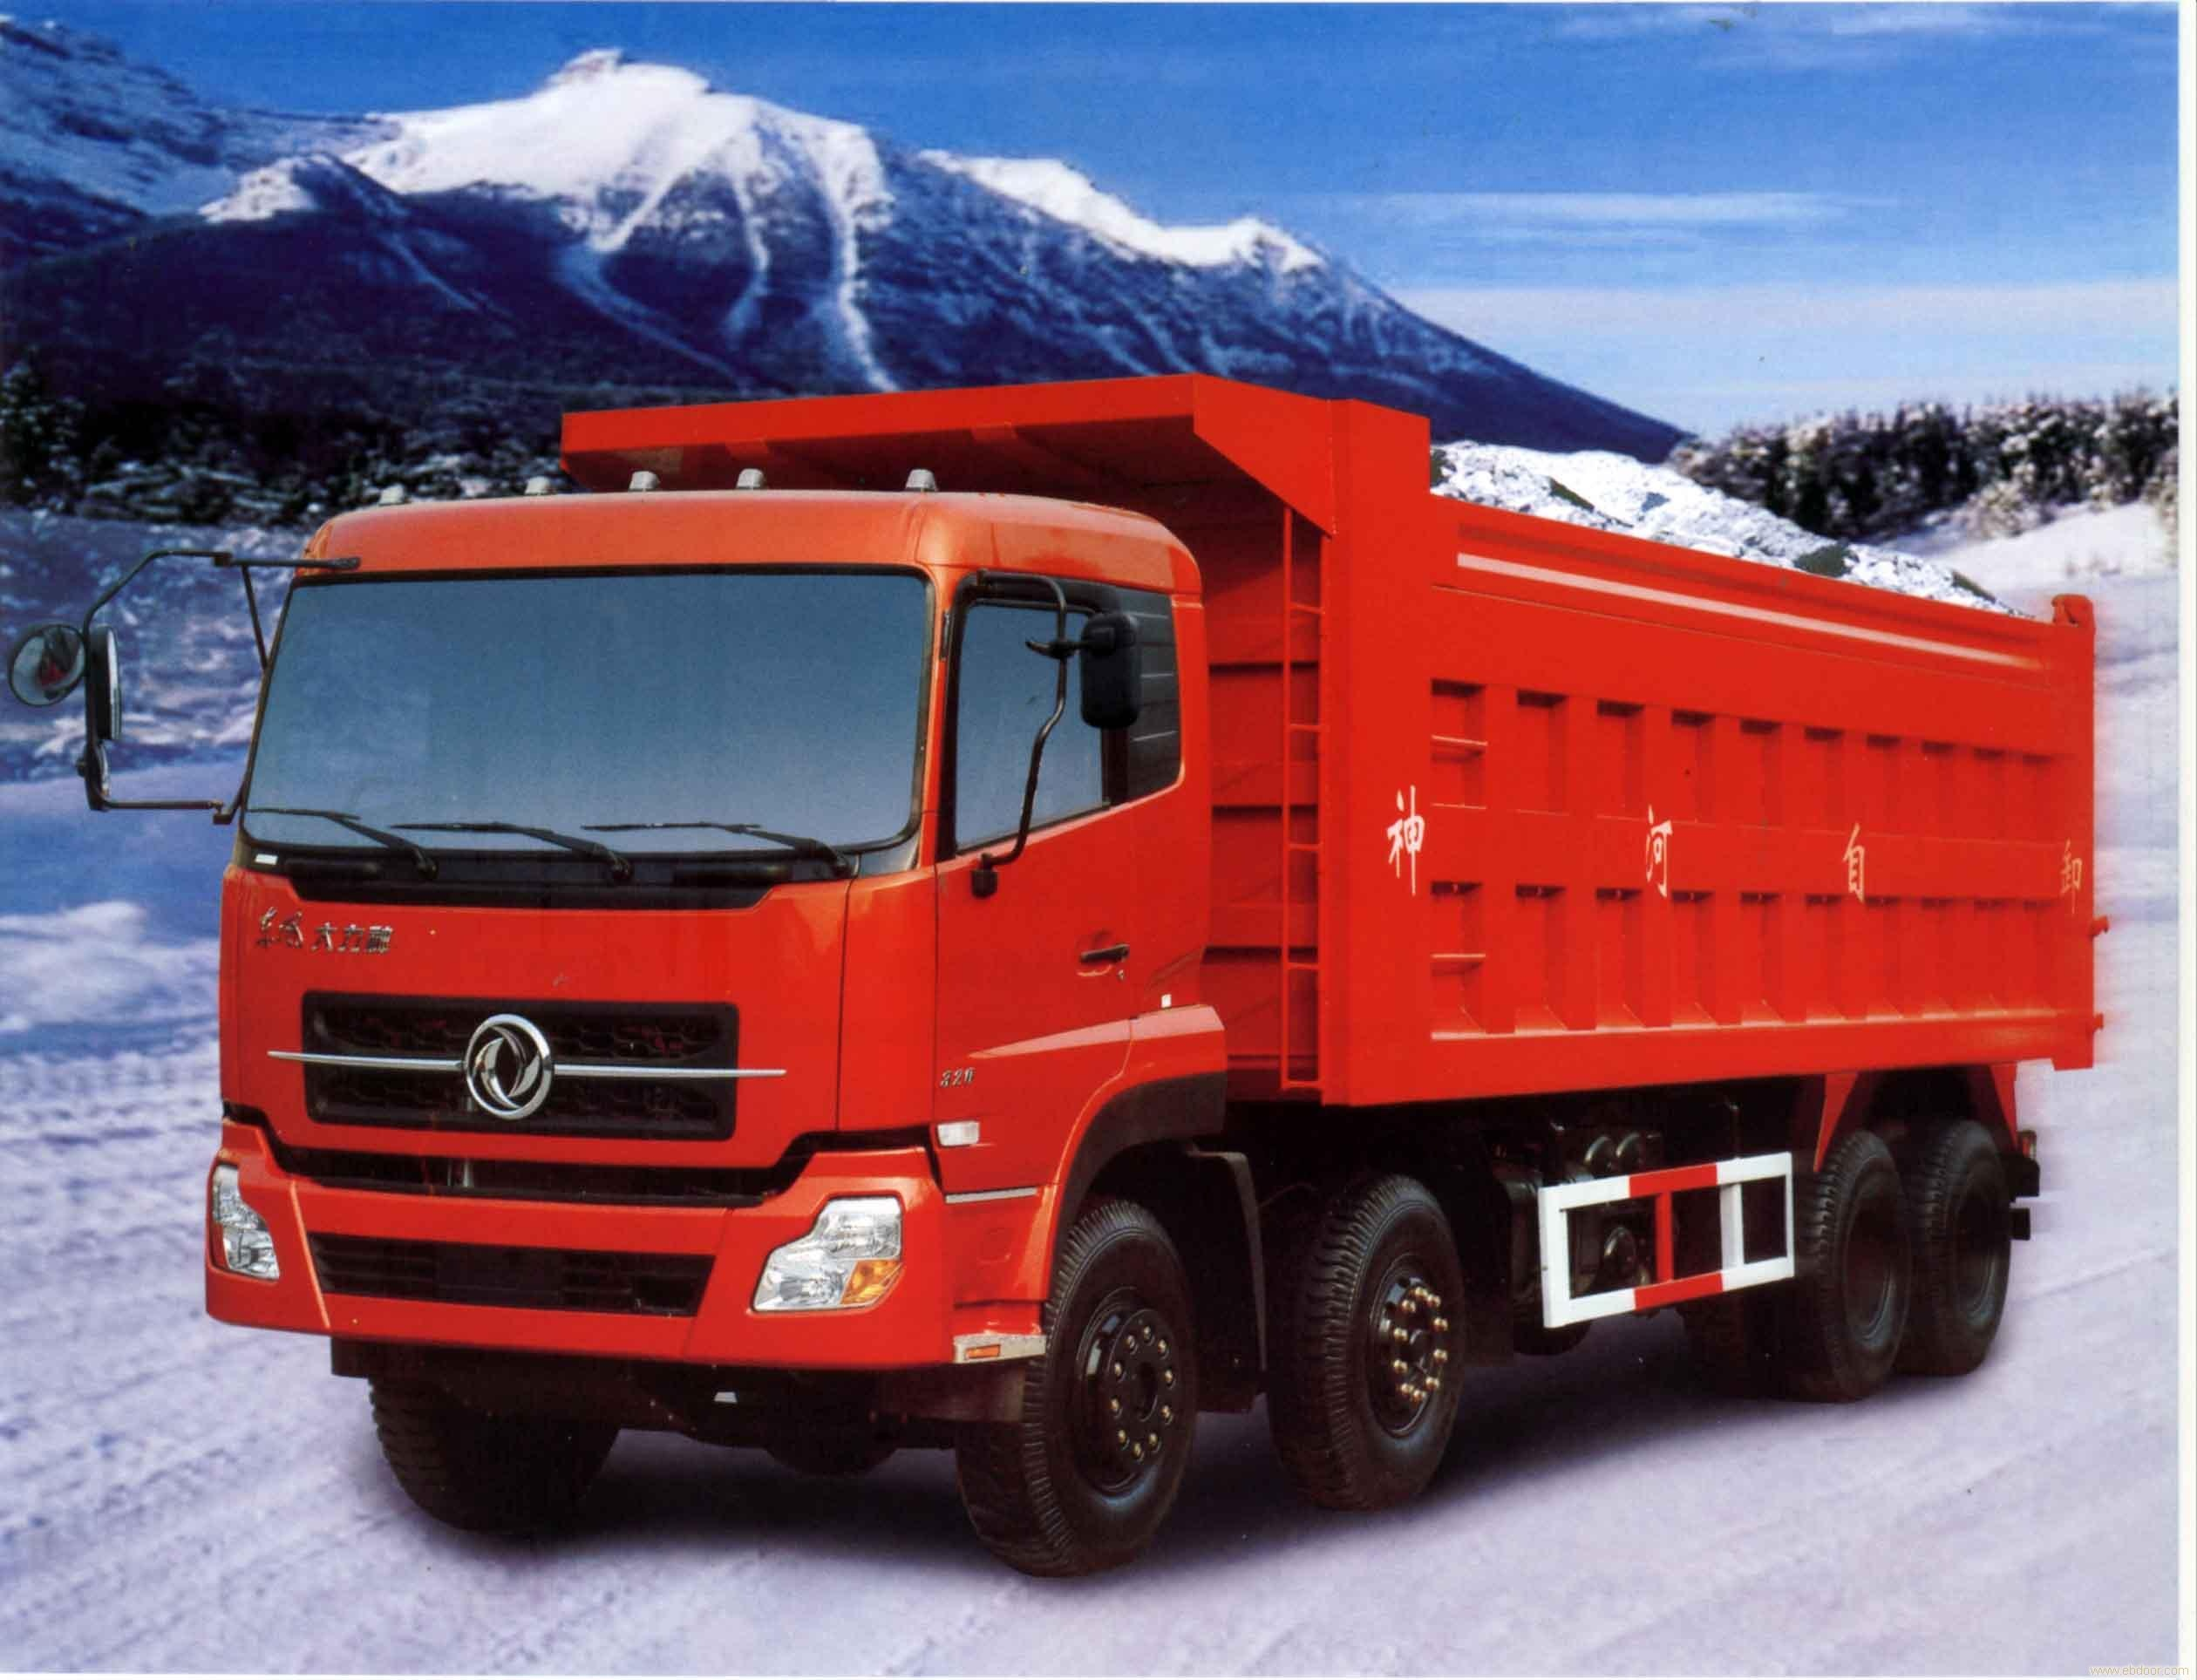truck: (116, 376, 2112, 1512)
